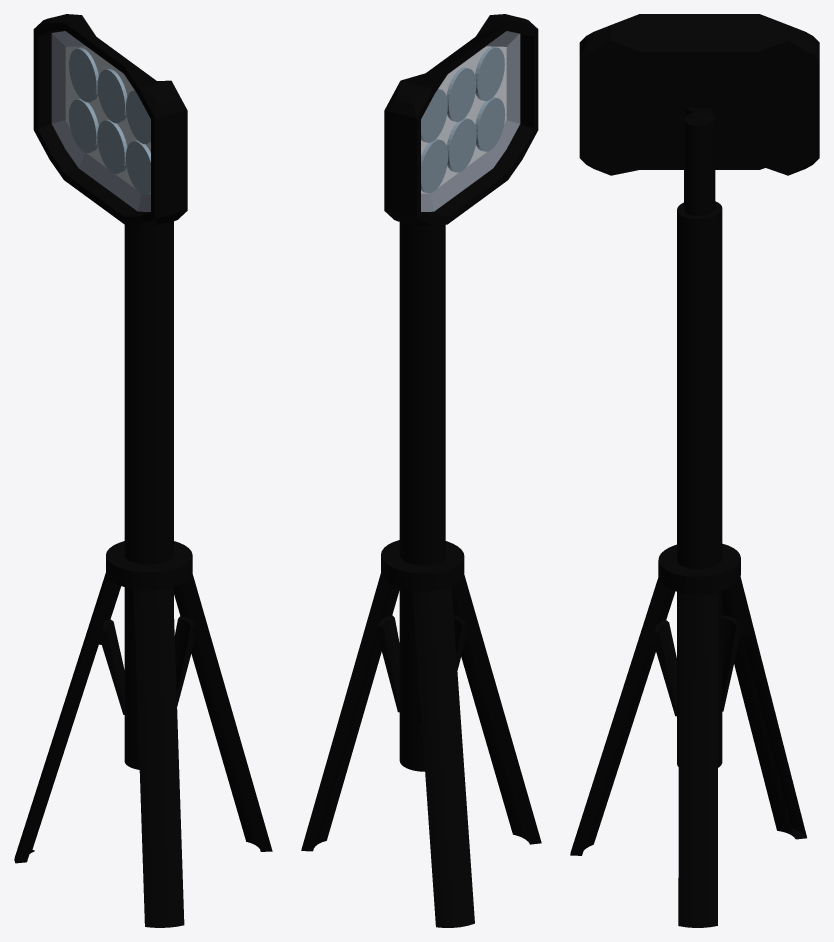
File: ConstructionLamp.fbx
The picture shows the model from 3 angles, left to right: view 1: azimuth 30°, elevation 25°; view 2: azimuth 150°, elevation 25°; view 3: azimuth 270°, elevation 25°; orthographic projection.
Visible parts, largest first — view 1: ConstructionLight, Cylinder.001, Cylinder.005, Cylinder.004, Cylinder.002, Cylinder.007, Cylinder.006; view 2: ConstructionLight, Cylinder.005, Cylinder.007, Cylinder.004, Cylinder.006, Cylinder.002, Cylinder.001; view 3: ConstructionLight.
Boxes of the visible parts, <box> form: ConstructionLight: <box>14,14,272,927</box>; Cylinder.001: <box>69,48,98,102</box>; Cylinder.005: <box>97,69,127,123</box>; Cylinder.004: <box>97,119,127,173</box>; Cylinder.002: <box>68,98,98,152</box>; Cylinder.007: <box>125,140,150,194</box>; Cylinder.006: <box>126,90,150,144</box>; ConstructionLight: <box>301,14,541,927</box>; Cylinder.005: <box>446,67,476,121</box>; Cylinder.007: <box>475,97,505,151</box>; Cylinder.004: <box>446,118,476,172</box>; Cylinder.006: <box>475,46,504,101</box>; Cylinder.002: <box>421,139,448,193</box>; Cylinder.001: <box>421,89,447,142</box>; ConstructionLight: <box>570,14,819,927</box>.
Size of the model in its own units: 260 by 995 by 271.
